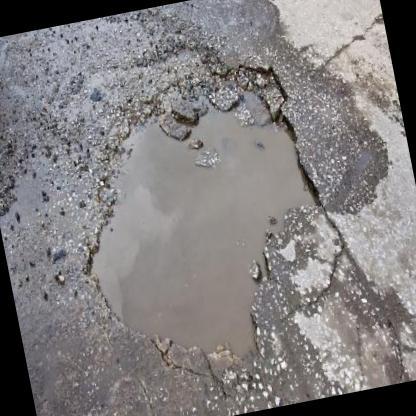pothole: (49, 50, 350, 392)
